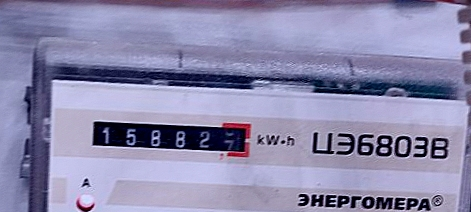1: (98, 124, 111, 143)
2: (197, 128, 210, 148)
5: (123, 125, 136, 146)
7: (222, 137, 234, 152)
8: (148, 126, 161, 148), (173, 128, 186, 149)
screen: (82, 107, 260, 164)
